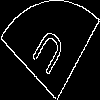U: (25, 25, 68, 86)
